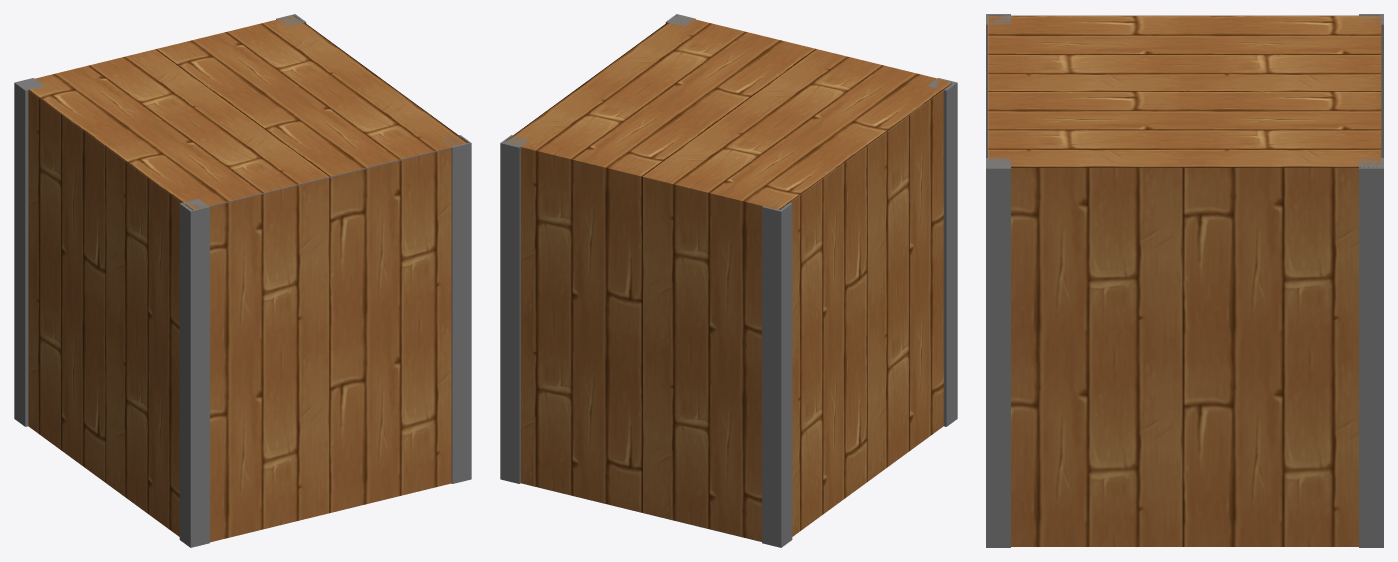
File: cupboard.obj
3 views of the same model, side by side, from view 1: azimuth 30°, elevation 25°; view 2: azimuth 150°, elevation 25°; view 3: azimuth 270°, elevation 25° (orthographic). The views are drawn at different scales.
Visible parts, largest first — view 1: Cube.001; view 2: Cube.001; view 3: Cube.001.
Boxes of the visible parts, x1,y1,x2,y2 form: Cube.001: (14,14,471,547); Cube.001: (500,14,957,547); Cube.001: (986,14,1383,547).
Bounding box in the file's own units: 0.8744 × 1 × 0.9507.
